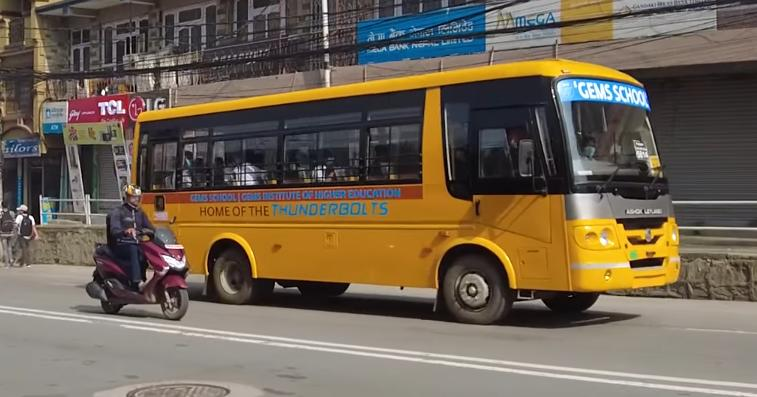school_bus: (125, 57, 682, 324)
scooter: (85, 218, 195, 325)
